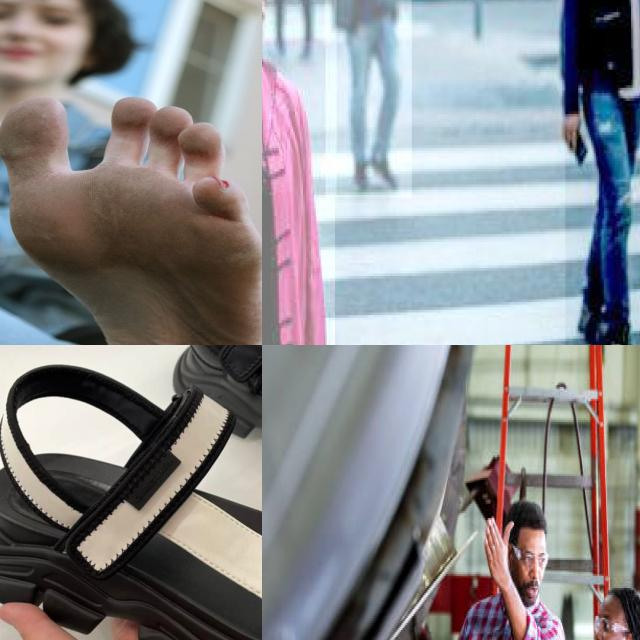Barefoots: (0, 96, 262, 345)
No_Ear-Protection: (508, 543, 516, 567), (623, 631, 633, 640)
Sandals: (0, 346, 262, 640), (126, 345, 262, 535)
face_nomask: (508, 548, 543, 607)
glasses: (512, 545, 548, 570), (594, 617, 630, 633)
hand_noglove: (484, 519, 513, 588)
head_nohelmet: (506, 500, 546, 545), (608, 588, 640, 640)
person: (565, 0, 640, 345), (262, 0, 336, 345), (325, 0, 413, 200)
shoes: (573, 279, 622, 345), (368, 141, 400, 191), (600, 307, 640, 345), (348, 148, 378, 195)
